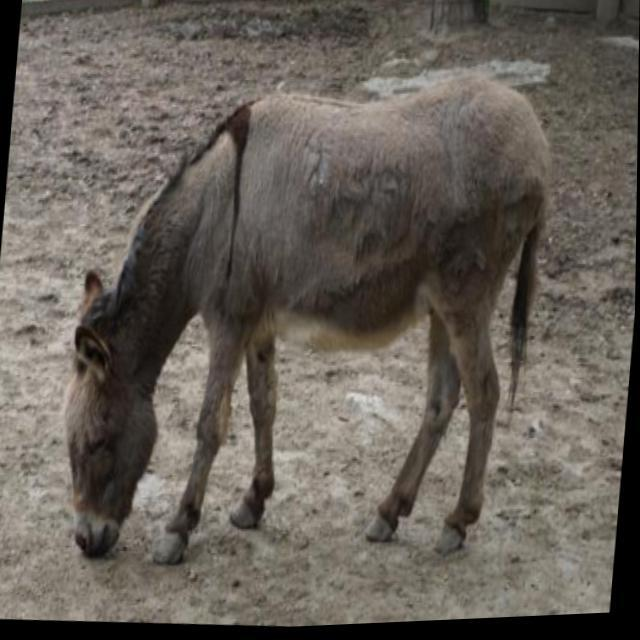Donkey: (51, 50, 560, 597)
